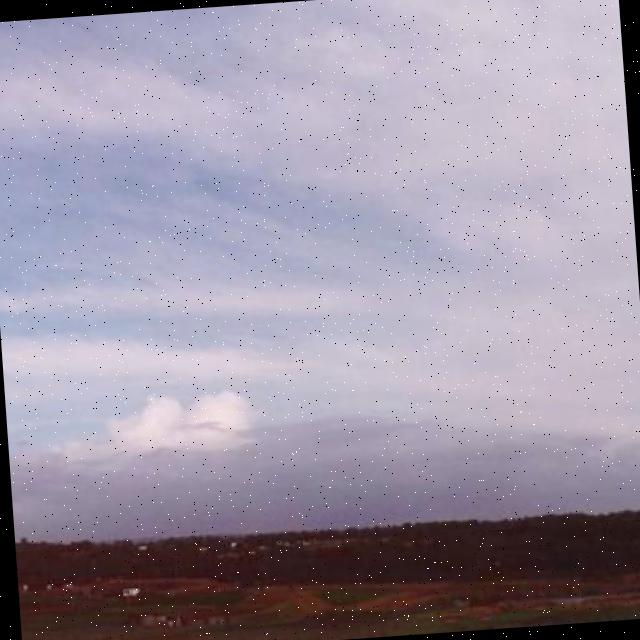Cs: (1, 13, 640, 519)
